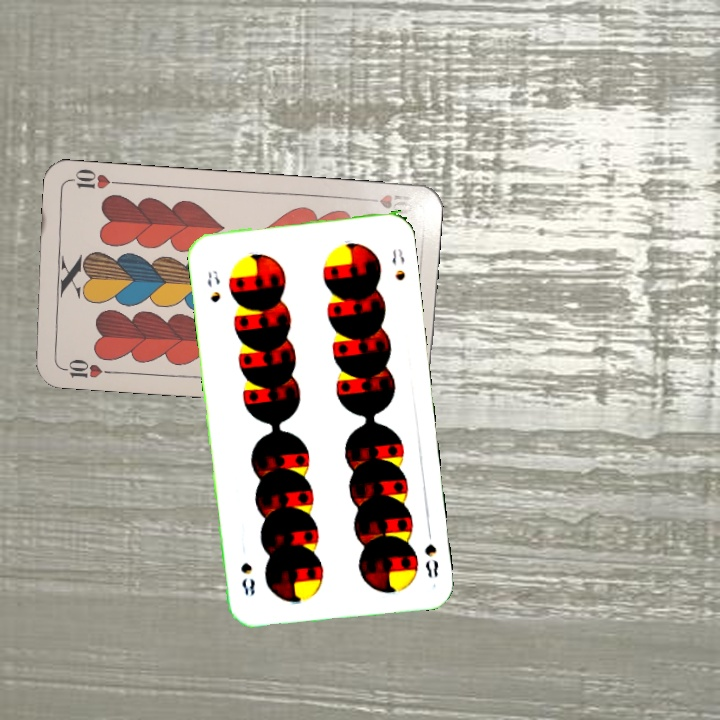H10: (358, 190, 417, 217), (55, 354, 114, 381)
S8: (420, 524, 441, 580), (203, 266, 223, 305)
